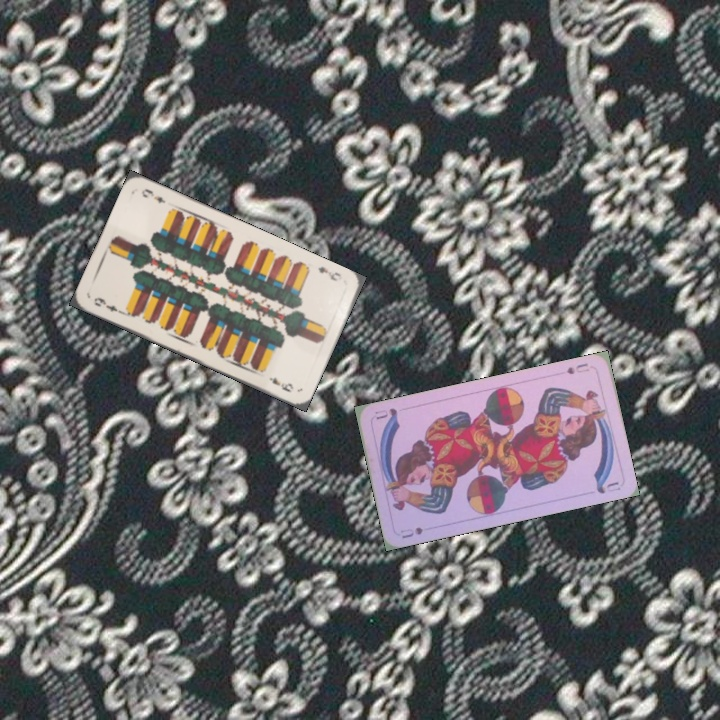E9: (90, 293, 126, 317), (313, 262, 343, 284)
SU: (396, 523, 425, 541), (562, 359, 591, 377)
